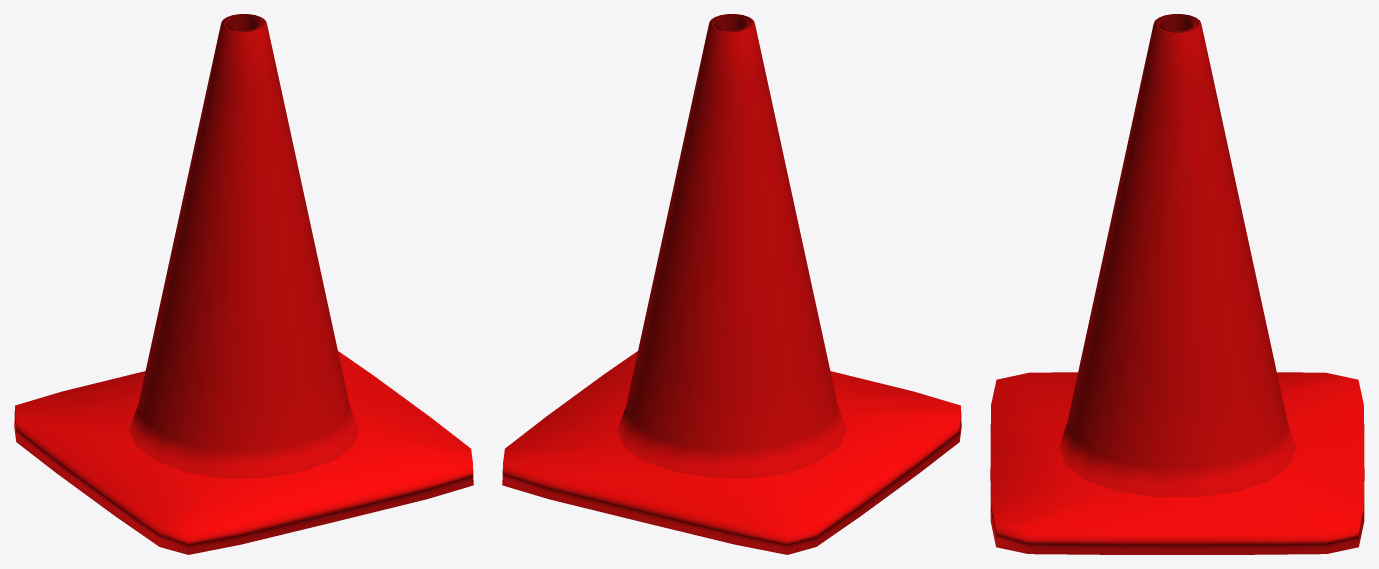
The model's file is TrafficCone.glb.
The picture shows the model from 3 angles, left to right: view 1: azimuth 30°, elevation 25°; view 2: azimuth 150°, elevation 25°; view 3: azimuth 270°, elevation 25°; orthographic projection. The views are drawn at different scales.
Visible parts, largest first — view 1: TrafficCone; view 2: TrafficCone; view 3: TrafficCone.
Part boxes in pixels (bbox=[...]): TrafficCone: bbox=[14, 14, 473, 554]; TrafficCone: bbox=[502, 14, 961, 554]; TrafficCone: bbox=[990, 14, 1364, 554].
Size of the model in its own units: 3.07 by 4.03 by 3.03.
